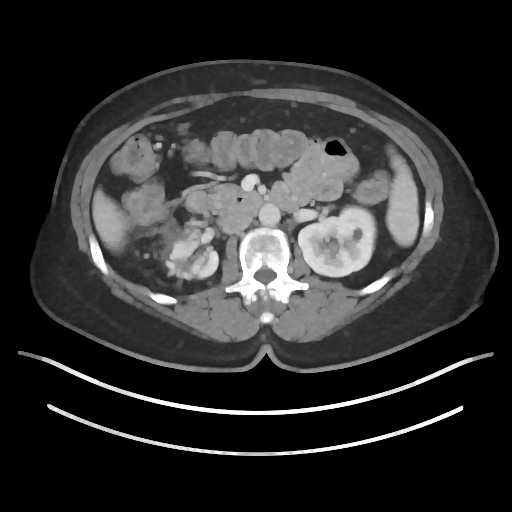Lesion: (349, 221, 365, 249)
